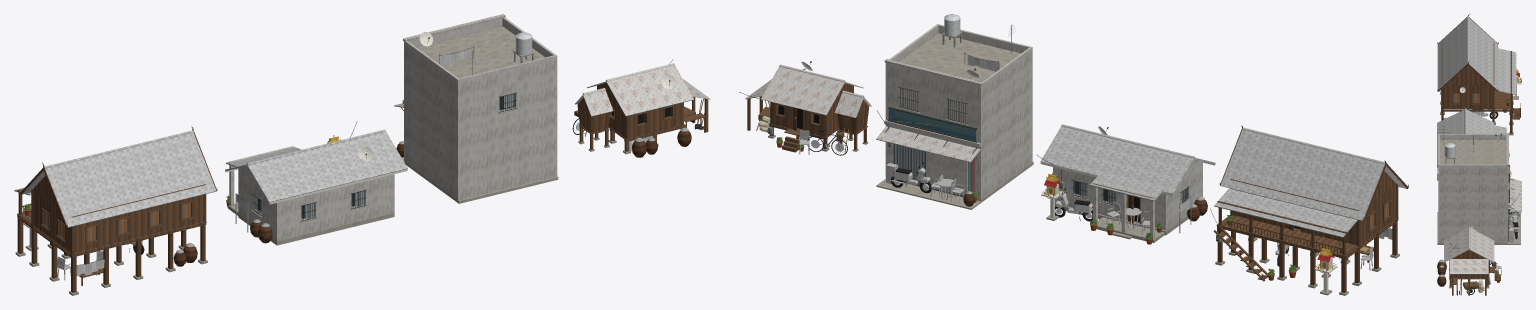
Rendered from Env_Houses_v2.glb.
3 renders of one model, left to right at view 1: azimuth 30°, elevation 25°; view 2: azimuth 150°, elevation 25°; view 3: azimuth 270°, elevation 25°, orthographic. The views are drawn at different scales.
Visible parts, largest first — view 1: EV_Shophouse_A_Walls_Tint, EV_StiltHouse_A_Roof_Tint, EV_StiltHouse_A_Structure, EV_ConcreteHouse_A_Roof_Tint, EV_ConcreteHouse_A_Walls_Tint, EV_Shophouse_A_Structure, EV_Farmhouse_A_Roof_Tint, EV_Farmhouse_A_Structure, EV_ConcreteHouse_A_Structure, EV_Farmhouse_A_Props, EV_ConcreteHouse_A_Props, EV_Shophouse_A_Props (+2 smaller); view 2: EV_Shophouse_A_Walls_Tint, EV_StiltHouse_A_Roof_Tint, EV_StiltHouse_A_Structure, EV_ConcreteHouse_A_Roof_Tint, EV_Shophouse_A_Structure, EV_ConcreteHouse_A_Walls_Tint, EV_Farmhouse_A_Roof_Tint, EV_Farmhouse_A_Structure, EV_ConcreteHouse_A_Structure, EV_Shophouse_A_Roof_Tint, EV_ConcreteHouse_A_Props, EV_Shophouse_A_Shutter (+6 smaller); view 3: EV_Shophouse_A_Walls_Tint, EV_StiltHouse_A_Roof_Tint, EV_StiltHouse_A_Structure, EV_Shophouse_A_Structure, EV_Farmhouse_A_Roof_Tint, EV_ConcreteHouse_A_Roof_Tint, EV_Farmhouse_A_Structure, EV_Farmhouse_A_Props, EV_Shophouse_A_Roof_Tint, EV_Shophouse_A_Props, EV_StiltHouse_A_Props, EV_Shophouse_A_Chairs_Tint (+3 smaller).
Part boxes in pixels (x1=…): EV_Shophouse_A_Walls_Tint: x1=402, y1=14, x2=557, y2=200; EV_StiltHouse_A_Roof_Tint: x1=14, y1=130, x2=216, y2=227; EV_StiltHouse_A_Structure: x1=15, y1=126, x2=217, y2=295; EV_ConcreteHouse_A_Roof_Tint: x1=225, y1=129, x2=407, y2=202; EV_ConcreteHouse_A_Walls_Tint: x1=229, y1=146, x2=394, y2=241; EV_Shophouse_A_Structure: x1=401, y1=26, x2=558, y2=203; EV_Farmhouse_A_Roof_Tint: x1=575, y1=63, x2=710, y2=116; EV_Farmhouse_A_Structure: x1=577, y1=82, x2=708, y2=154; EV_ConcreteHouse_A_Structure: x1=225, y1=168, x2=407, y2=245; EV_Farmhouse_A_Props: x1=572, y1=60, x2=704, y2=157; EV_ConcreteHouse_A_Props: x1=226, y1=121, x2=373, y2=243; EV_Shophouse_A_Props: x1=396, y1=32, x2=532, y2=157; EV_Shophouse_A_Walls_Tint: x1=884, y1=24, x2=1032, y2=200; EV_StiltHouse_A_Roof_Tint: x1=1214, y1=127, x2=1406, y2=237; EV_StiltHouse_A_Structure: x1=1213, y1=125, x2=1408, y2=295; EV_ConcreteHouse_A_Roof_Tint: x1=1040, y1=124, x2=1215, y2=201; EV_Shophouse_A_Structure: x1=876, y1=31, x2=1033, y2=209; EV_ConcreteHouse_A_Walls_Tint: x1=1053, y1=159, x2=1202, y2=239; EV_Farmhouse_A_Roof_Tint: x1=745, y1=64, x2=871, y2=117; EV_Farmhouse_A_Structure: x1=747, y1=83, x2=869, y2=153; EV_ConcreteHouse_A_Structure: x1=1040, y1=161, x2=1215, y2=242; EV_Shophouse_A_Roof_Tint: x1=876, y1=126, x2=980, y2=162; EV_ConcreteHouse_A_Props: x1=1036, y1=126, x2=1207, y2=244; EV_Shophouse_A_Shutter: x1=892, y1=144, x2=973, y2=197; EV_Shophouse_A_Walls_Tint: x1=1438, y1=133, x2=1510, y2=243; EV_StiltHouse_A_Roof_Tint: x1=1437, y1=16, x2=1516, y2=94; EV_StiltHouse_A_Structure: x1=1437, y1=14, x2=1520, y2=135; EV_Shophouse_A_Structure: x1=1437, y1=140, x2=1520, y2=244; EV_Farmhouse_A_Roof_Tint: x1=1444, y1=226, x2=1494, y2=274; EV_ConcreteHouse_A_Roof_Tint: x1=1437, y1=108, x2=1506, y2=166; EV_Farmhouse_A_Structure: x1=1449, y1=249, x2=1500, y2=295; EV_Farmhouse_A_Props: x1=1437, y1=243, x2=1500, y2=295; EV_Shophouse_A_Roof_Tint: x1=1508, y1=178, x2=1521, y2=212; EV_Shophouse_A_Props: x1=1438, y1=126, x2=1519, y2=220; EV_StiltHouse_A_Props: x1=1443, y1=68, x2=1521, y2=119; EV_Shophouse_A_Chairs_Tint: x1=1509, y1=210, x2=1520, y2=242.
Bounding box in the file's own units: 104 × 22.29 × 17.97.
37 materials, 37 textured.
